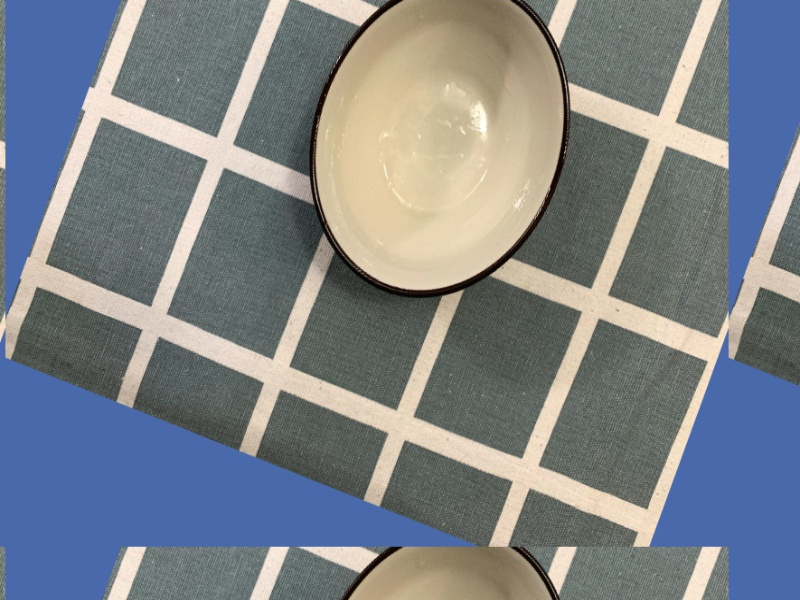bowl_small: (255, 0, 621, 350)
